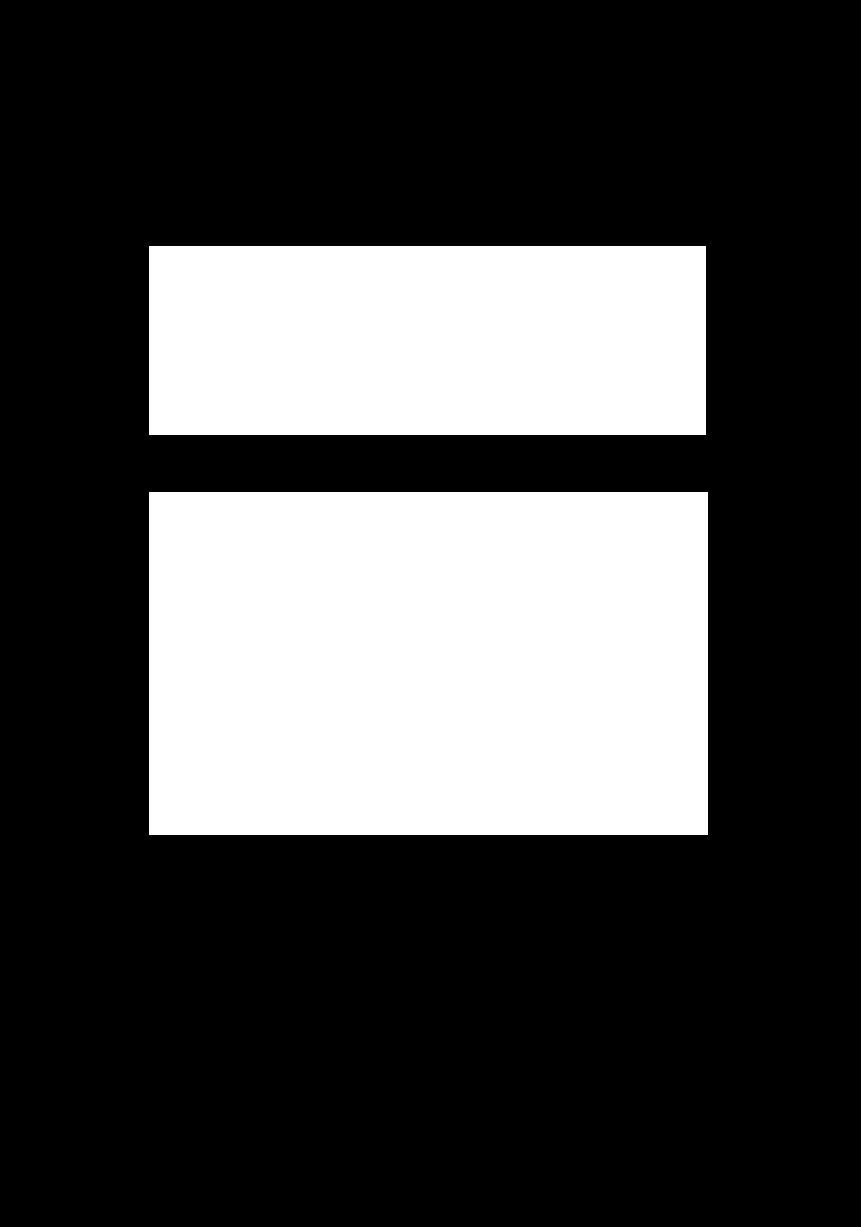table: (149, 492, 707, 834), (149, 246, 705, 434)
